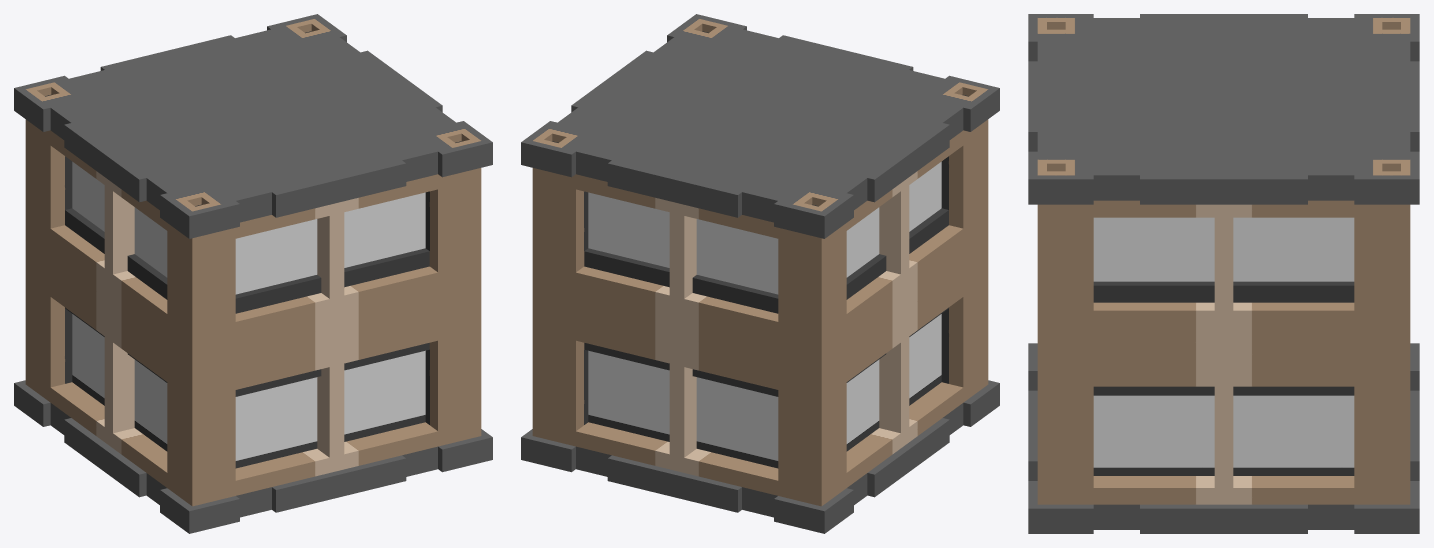
Rendered from Tower_10.fbx.
The picture shows the model from 3 angles, left to right: view 1: azimuth 30°, elevation 25°; view 2: azimuth 150°, elevation 25°; view 3: azimuth 270°, elevation 25°; orthographic projection. The views are drawn at different scales.
Visible parts, largest first — view 1: Box; view 2: Box; view 3: Box.
Boxes of the visible parts, x1,y1,x2,y2 form: Box: (14,14,492,533); Box: (521,14,999,533); Box: (1028,14,1419,533).
Bounding box in the file's own units: 42 × 42 × 42.
1 material, 1 textured.
